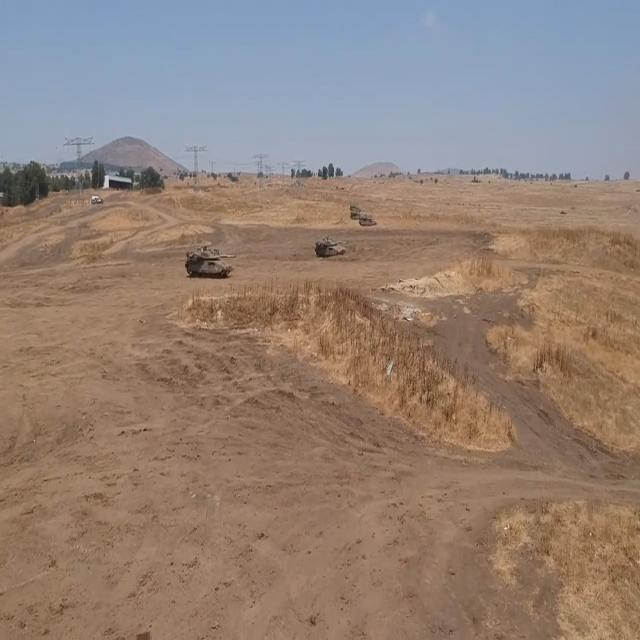tank: (175, 241, 238, 285), (315, 221, 349, 269), (362, 204, 377, 240), (348, 202, 361, 222)
